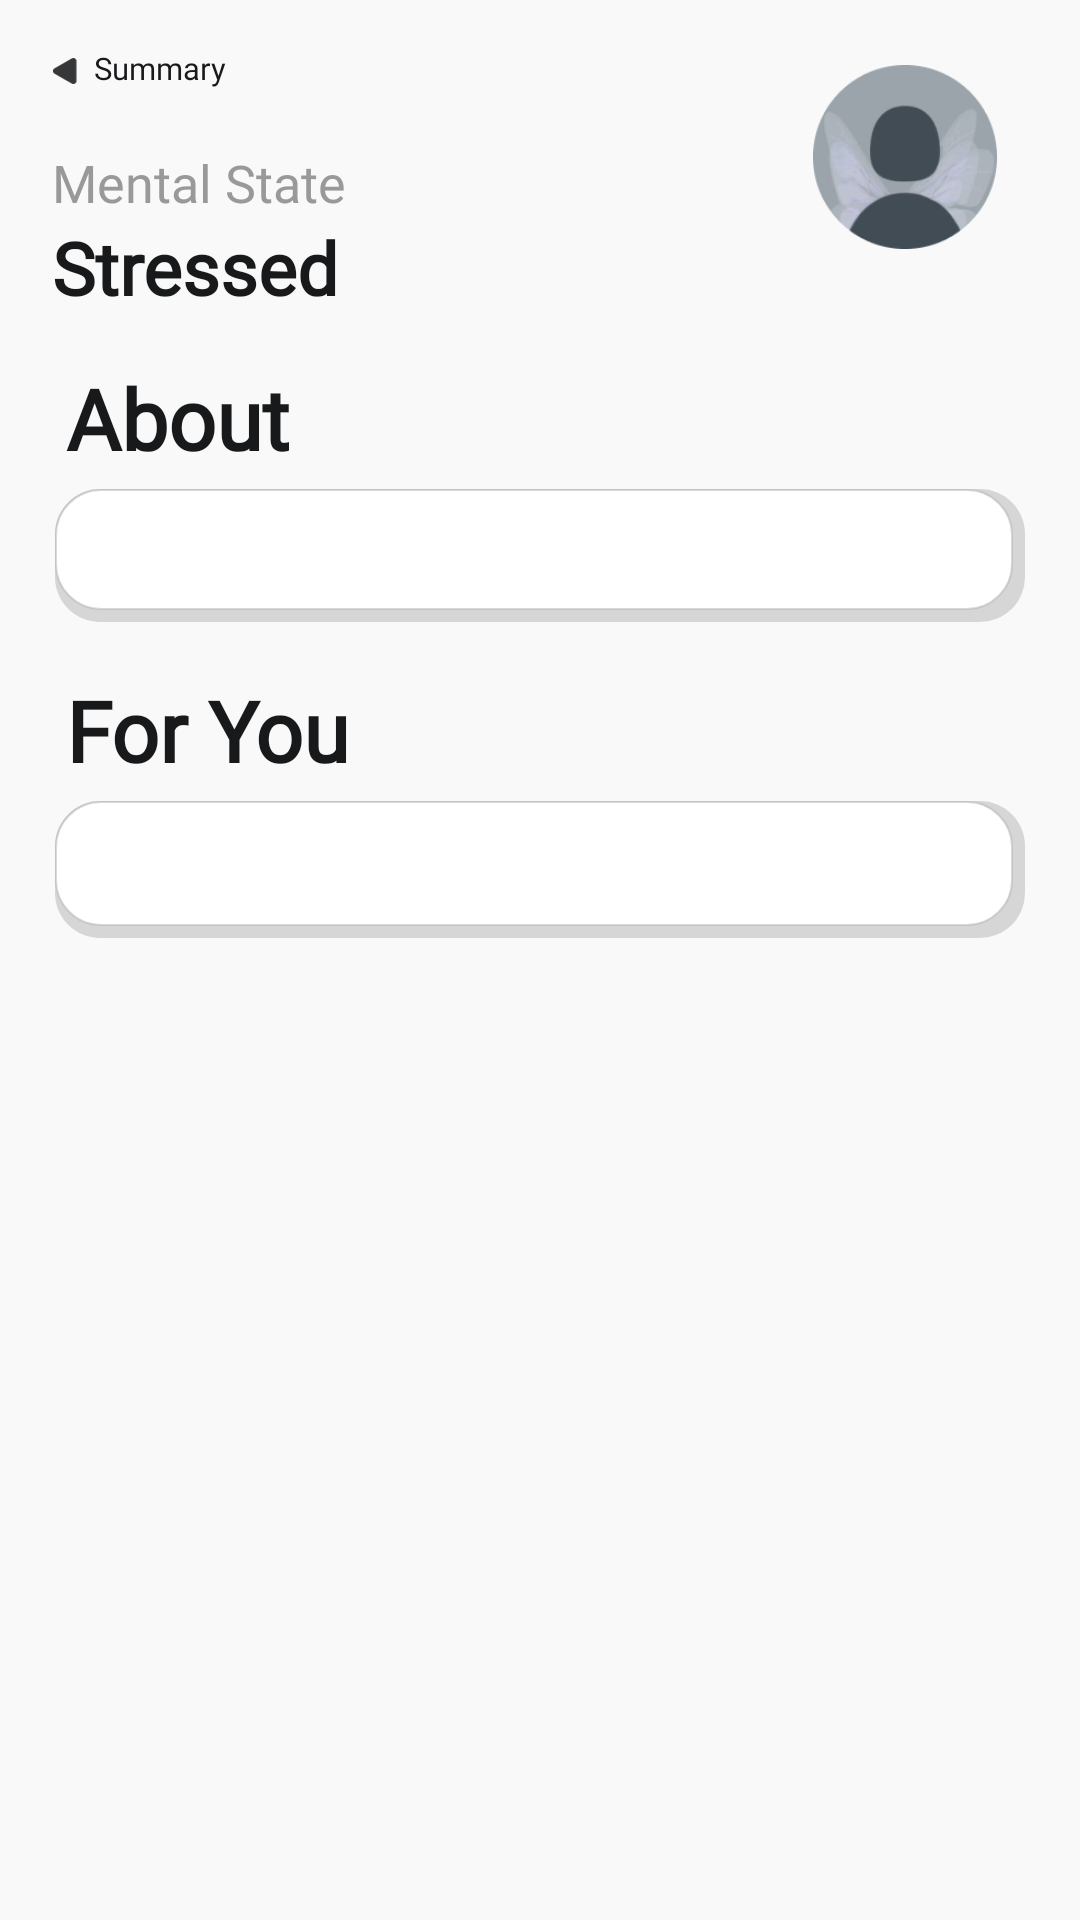

Screen size 1080px×1920px. Icon name, then its box in pixels as (x1, y1, x2, y2):
arrowleft: (53, 58, 77, 84)
profilepic: (813, 65, 997, 249)
